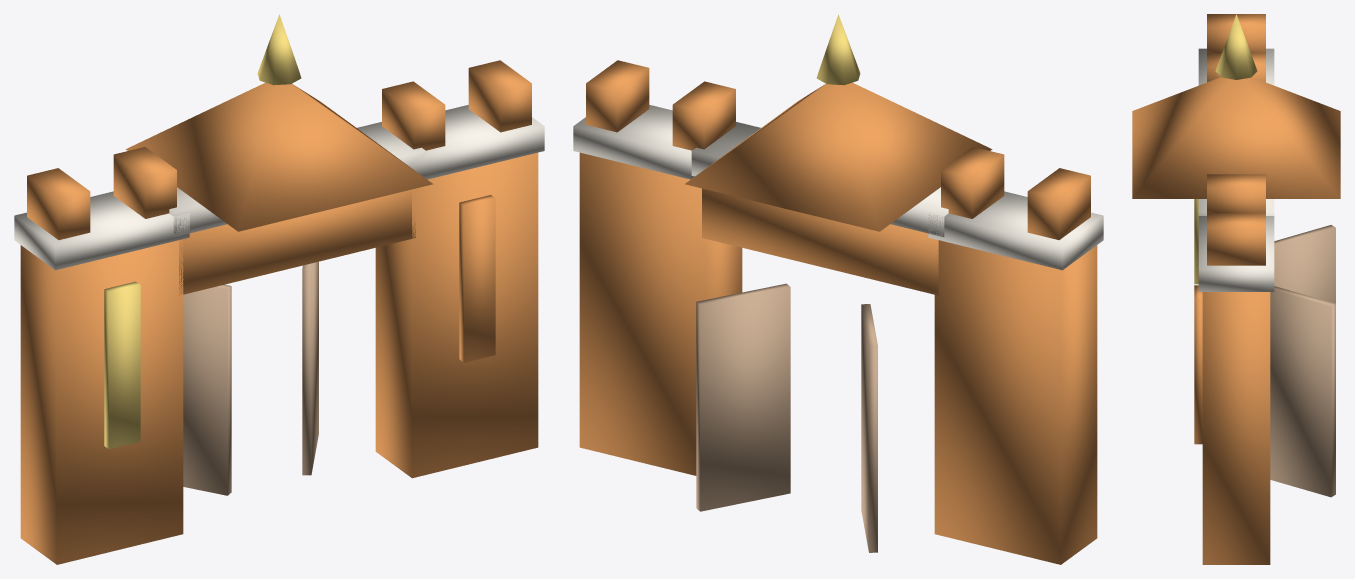
The model's file is tha_phae_gate.glb.
3 renders of one model, left to right at view 1: azimuth 30°, elevation 25°; view 2: azimuth 150°, elevation 25°; view 3: azimuth 270°, elevation 25°, orthographic. The views are drawn at different scales.
Parts seen in each view (by area): view 1: wall_l, wall_r, roof_center, arch_beam, gate_door_l, wall_l_cap, banner_l, banner_r, wall_r_cap, cren_l1, cren_r2, cren_l2 (+4 smaller); view 2: wall_l, wall_r, roof_center, gate_door_r, arch_beam, wall_l_cap, wall_r_cap, gate_door_l, cren_l1, cren_r2, cren_l2, cren_r1 (+2 smaller); view 3: roof_center, wall_r, gate_door_r, gate_door_l, cren_r2, wall_r_cap, cren_r1, cren_l1, roof_spire, banner_r, cren_l2, wall_l_cap (+2 smaller).
Boxes of the visible parts, x1=… form: wall_l: x1=20, y1=240, x2=183, y2=564; wall_r: x1=375, y1=152, x2=538, y2=478; roof_center: x1=125, y1=82, x2=432, y2=231; arch_beam: x1=179, y1=189, x2=415, y2=295; gate_door_l: x1=183, y1=284, x2=231, y2=495; wall_l_cap: x1=14, y1=191, x2=189, y2=270; banner_l: x1=104, y1=281, x2=140, y2=449; banner_r: x1=459, y1=195, x2=495, y2=362; wall_r_cap: x1=410, y1=105, x2=544, y2=179; cren_l1: x1=27, y1=168, x2=90, y2=239; cren_r2: x1=468, y1=60, x2=531, y2=132; cren_l2: x1=113, y1=147, x2=176, y2=218; wall_l: x1=934, y1=240, x2=1097, y2=564; wall_r: x1=579, y1=152, x2=742, y2=475; roof_center: x1=685, y1=82, x2=992, y2=231; gate_door_r: x1=696, y1=283, x2=790, y2=511; arch_beam: x1=702, y1=188, x2=938, y2=295; wall_l_cap: x1=928, y1=191, x2=1103, y2=270; wall_r_cap: x1=573, y1=105, x2=694, y2=179; gate_door_l: x1=861, y1=304, x2=877, y2=552; cren_l1: x1=1027, y1=168, x2=1090, y2=239; cren_r2: x1=586, y1=60, x2=649, y2=132; cren_l2: x1=941, y1=147, x2=1004, y2=218; cren_r1: x1=672, y1=81, x2=735, y2=150; roof_center: x1=1132, y1=77, x2=1340, y2=198; wall_r: x1=1202, y1=292, x2=1270, y2=564; gate_door_r: x1=1270, y1=286, x2=1335, y2=497; gate_door_l: x1=1274, y1=225, x2=1335, y2=303; cren_r2: x1=1207, y1=213, x2=1265, y2=265; wall_r_cap: x1=1198, y1=216, x2=1274, y2=291; cren_r1: x1=1207, y1=174, x2=1265, y2=213; cren_l1: x1=1207, y1=14, x2=1265, y2=53; roof_spire: x1=1215, y1=14, x2=1257, y2=79; banner_r: x1=1194, y1=285, x2=1202, y2=444; cren_l2: x1=1207, y1=53, x2=1265, y2=82; wall_l_cap: x1=1198, y1=48, x2=1274, y2=85.
Size of the model in its own units: 1.24 by 1.16 by 0.495.
